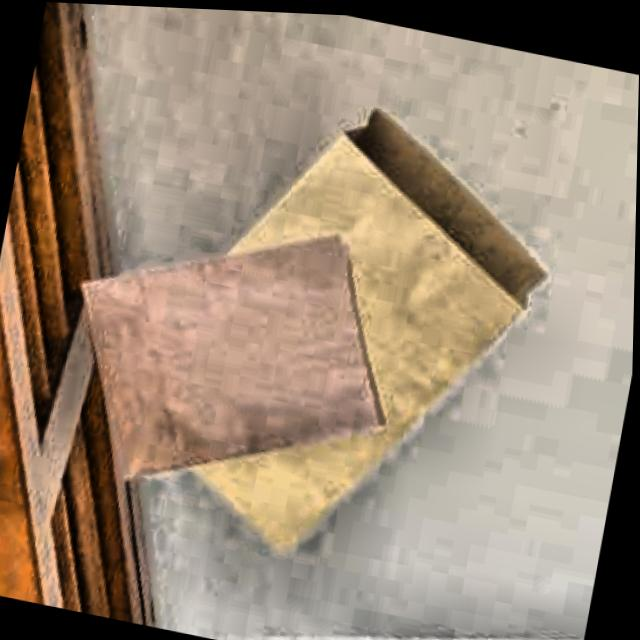Paper-bag: (142, 77, 571, 580), (37, 174, 423, 548)
